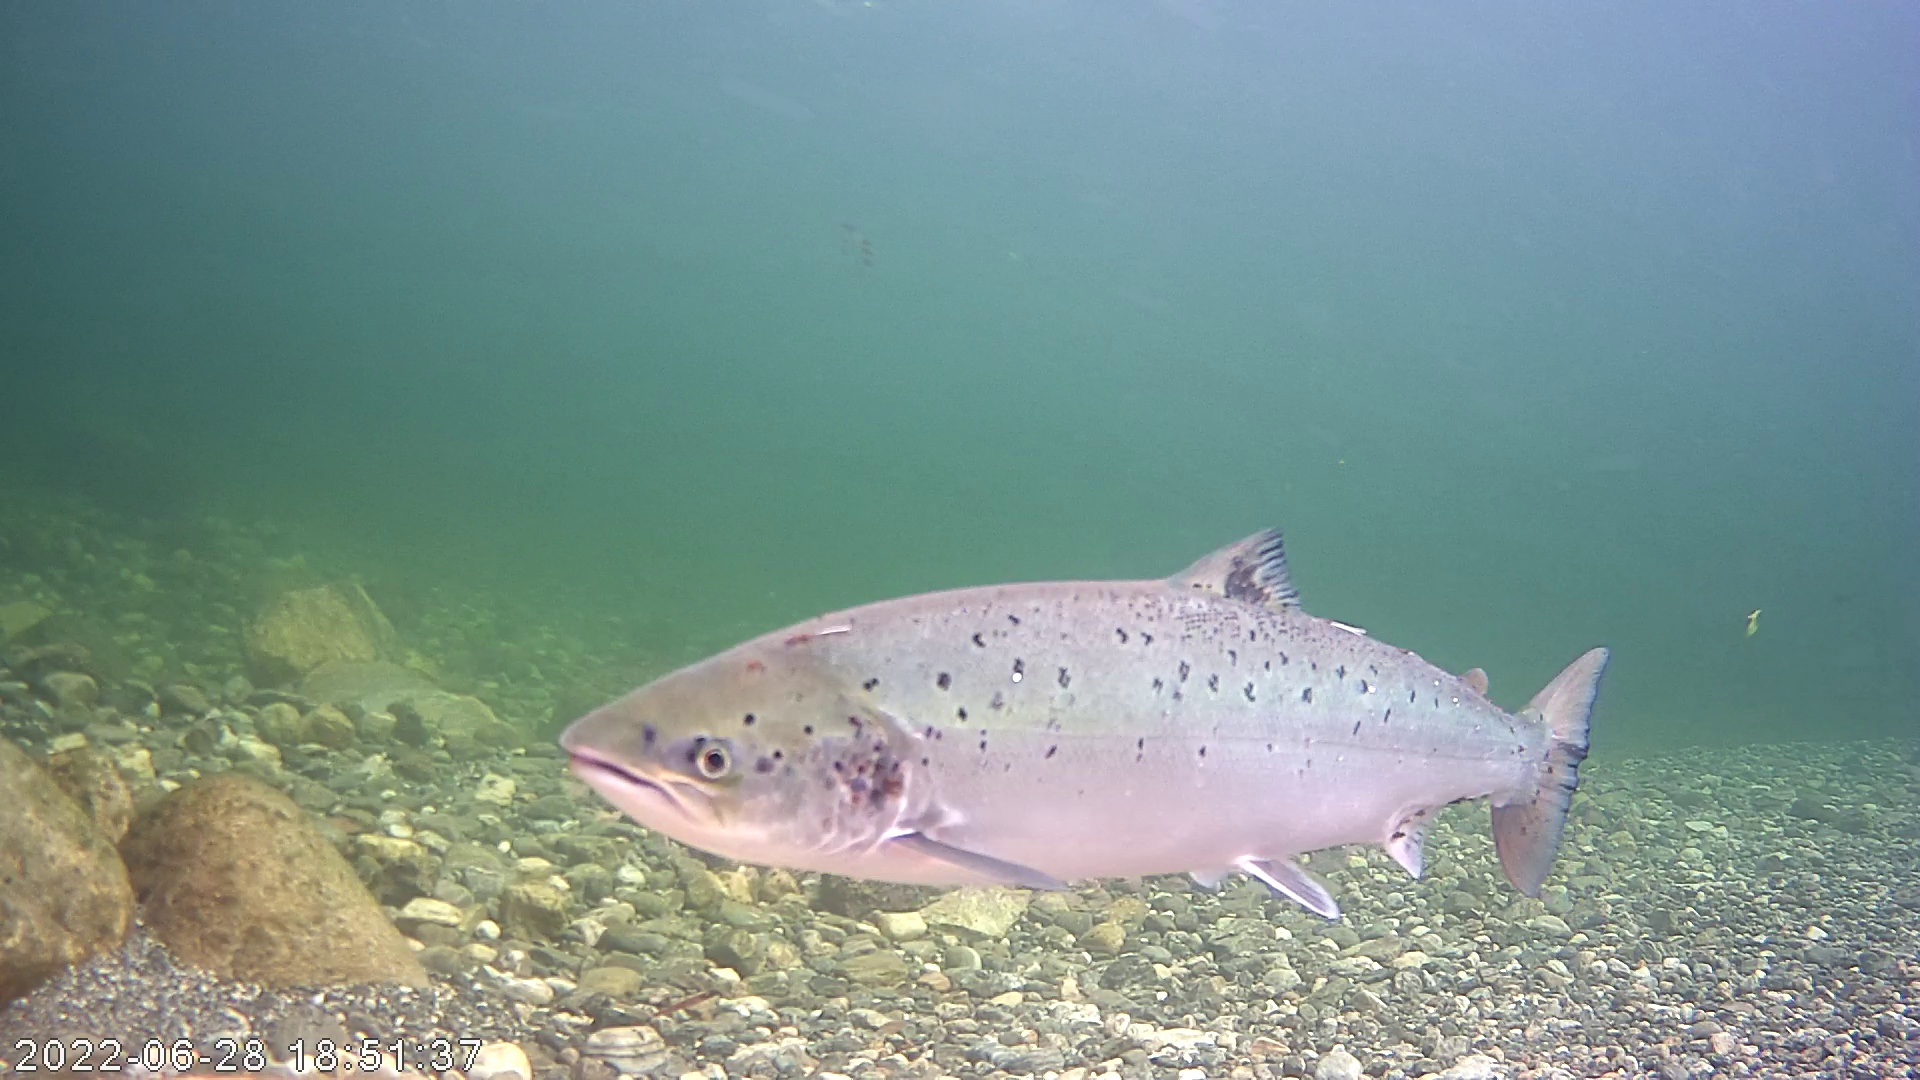salmon: (543, 516, 1613, 931)
